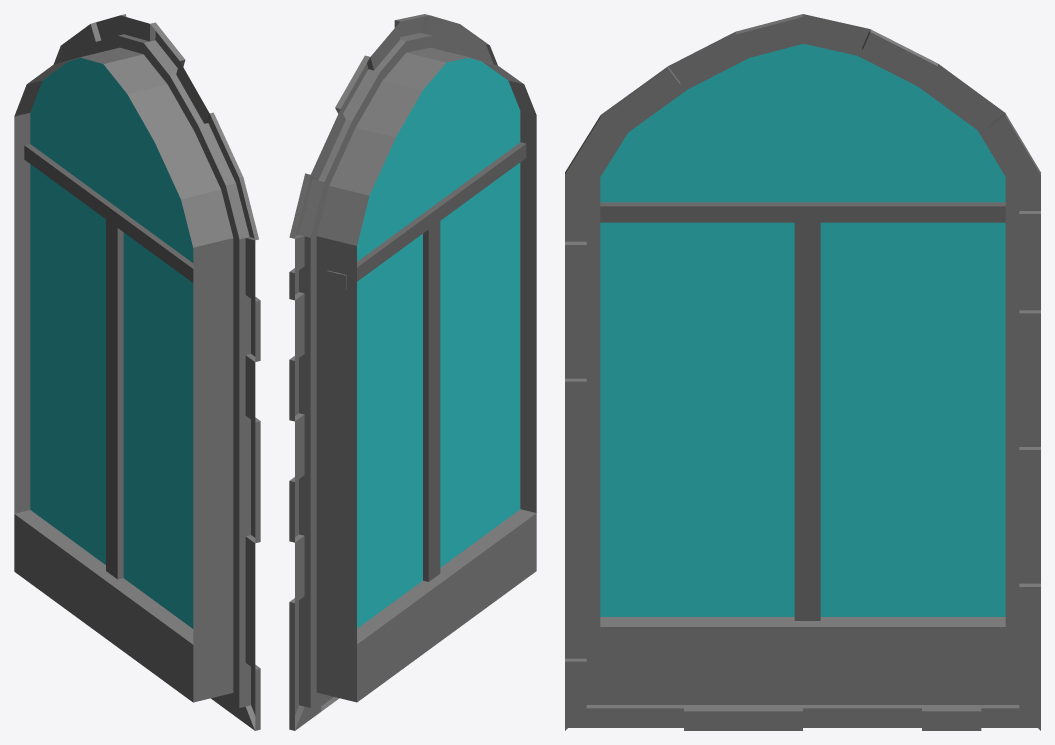
The model's file is FenêtreCourbCroix.glb.
3 views of the same model, side by side, from view 1: azimuth 30°, elevation 25°; view 2: azimuth 150°, elevation 25°; view 3: azimuth 270°, elevation 25° (orthographic). The views are drawn at different scales.
Parts seen in each view (by area): view 1: EmpacementFenêtreCourb.002; view 2: EmpacementFenêtreCourb.002; view 3: EmpacementFenêtreCourb.002.
Part boxes in pixels (<box>): EmpacementFenêtreCourb.002: <box>14,14,260,730</box>; EmpacementFenêtreCourb.002: <box>289,14,536,730</box>; EmpacementFenêtreCourb.002: <box>565,14,1040,730</box>.
Size of the model in its own units: 0.1258 by 1.46 by 0.8813.
